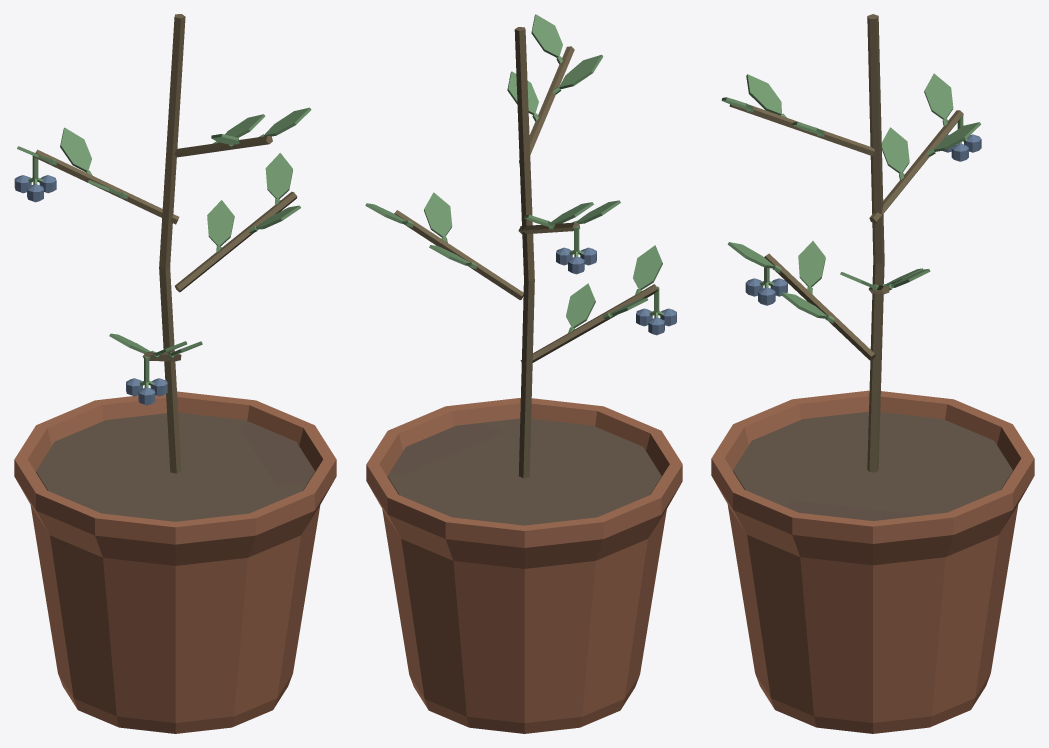
The model's file is blueberry.glb.
3 renders of one model, left to right at view 1: azimuth 30°, elevation 25°; view 2: azimuth 150°, elevation 25°; view 3: azimuth 270°, elevation 25°, orthographic. The views are drawn at different scales.
Parts seen in each view (by area): view 1: blueberry/review-terra-vessel, blueberry/review-rooted-soil, blueberry/stem-001, blueberry/petiole-016, blueberry/petiole-023, blueberry/leaf-018, blueberry/leaf-022, blueberry/leaf-027, blueberry/petiole-037, blueberry/leaf-043; view 2: blueberry/review-terra-vessel, blueberry/review-rooted-soil, blueberry/stem-001, blueberry/petiole-016, blueberry/petiole-002, blueberry/petiole-037, blueberry/leaf-020, blueberry/leaf-008, blueberry/leaf-004, blueberry/leaf-043, blueberry/leaf-041; view 3: blueberry/review-terra-vessel, blueberry/review-rooted-soil, blueberry/stem-001, blueberry/petiole-002, blueberry/petiole-023, blueberry/petiole-037, blueberry/leaf-006, blueberry/leaf-029, blueberry/leaf-025, blueberry/leaf-041, blueberry/leaf-027.
Boxes of the visible parts, left/top/right/bottom form: blueberry/review-terra-vessel: left=14, top=391, right=336, bottom=733; blueberry/review-rooted-soil: left=36, top=412, right=314, bottom=521; blueberry/stem-001: left=159, top=14, right=185, bottom=473; blueberry/petiole-016: left=175, top=191, right=297, bottom=292; blueberry/petiole-023: left=34, top=149, right=179, bottom=224; blueberry/leaf-018: left=207, top=200, right=234, bottom=245; blueberry/leaf-022: left=265, top=153, right=292, bottom=198; blueberry/leaf-027: left=60, top=127, right=91, bottom=171; blueberry/petiole-037: left=174, top=136, right=272, bottom=157; blueberry/leaf-043: left=264, top=107, right=311, bottom=136; blueberry/review-terra-vessel: left=366, top=398, right=682, bottom=733; blueberry/review-rooted-soil: left=387, top=418, right=661, bottom=525; blueberry/stem-001: left=514, top=27, right=534, bottom=478; blueberry/petiole-016: left=394, top=210, right=523, bottom=299; blueberry/petiole-002: left=520, top=284, right=658, bottom=362; blueberry/petiole-037: left=519, top=46, right=574, bottom=163; blueberry/leaf-020: left=424, top=192, right=452, bottom=237; blueberry/leaf-008: left=633, top=245, right=662, bottom=289; blueberry/leaf-004: left=566, top=283, right=595, bottom=328; blueberry/leaf-043: left=531, top=14, right=562, bottom=57; blueberry/leaf-041: left=559, top=54, right=603, bottom=89; blueberry/review-terra-vessel: left=711, top=390, right=1034, bottom=733; blueberry/review-rooted-soil: left=733, top=411, right=1012, bottom=520; blueberry/stem-001: left=867, top=14, right=884, bottom=472; blueberry/petiole-002: left=764, top=253, right=875, bottom=360; blueberry/petiole-023: left=869, top=110, right=963, bottom=223; blueberry/petiole-037: left=729, top=104, right=874, bottom=155; blueberry/leaf-006: left=798, top=241, right=825, bottom=287; blueberry/leaf-029: left=924, top=73, right=953, bottom=119; blueberry/leaf-025: left=881, top=127, right=909, bottom=173; blueberry/leaf-041: left=746, top=74, right=781, bottom=115; blueberry/leaf-027: left=933, top=122, right=981, bottom=151.
Size of the model in its own units: 0.27 by 0.6193 by 0.27.
5 materials, 5 textured.
